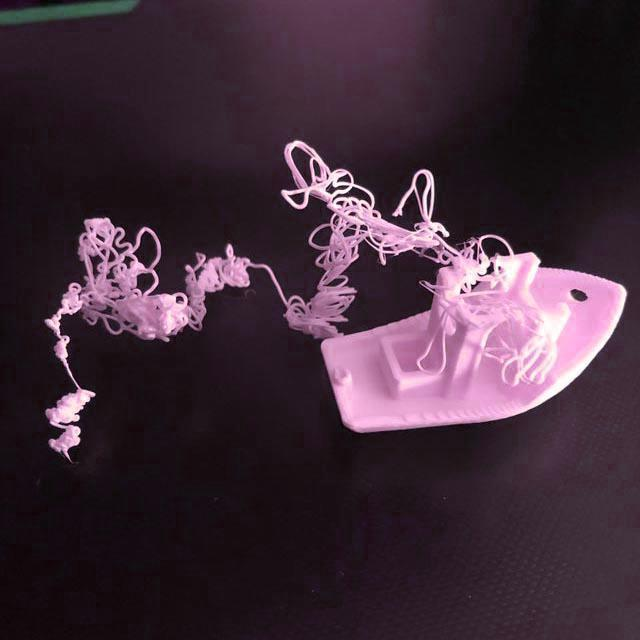spaghetti: (274, 136, 571, 400), (40, 206, 282, 345), (36, 347, 103, 462)
